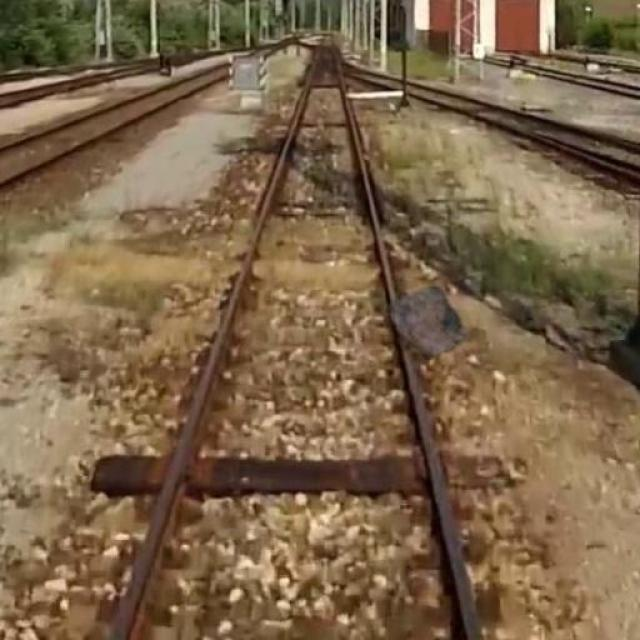Stone: (390, 277, 470, 356)
